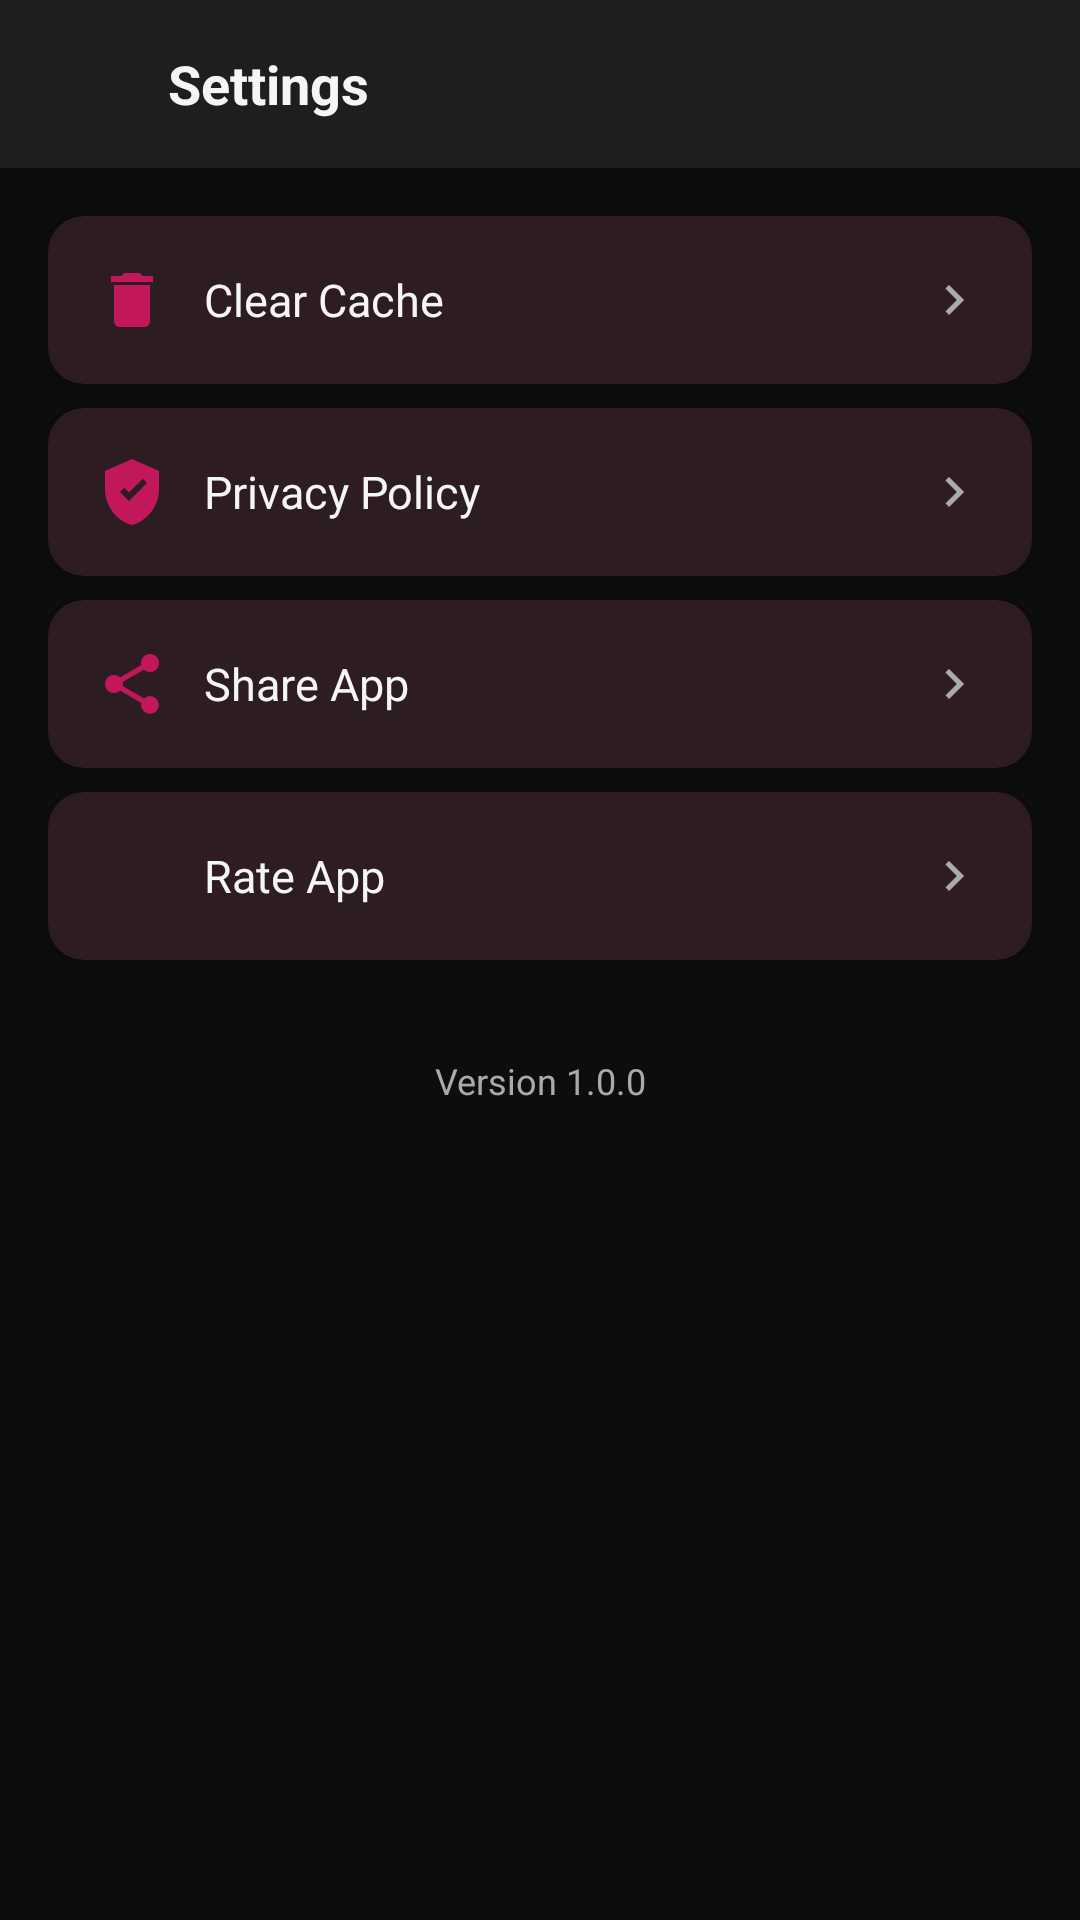

Point at icon controls on the screen. Image size 1080w x 1920h, points as (x=x, y=y).
chevron right: (x=954, y=300), (x=954, y=492), (x=954, y=684), (x=954, y=876)
delete: (x=132, y=300)
